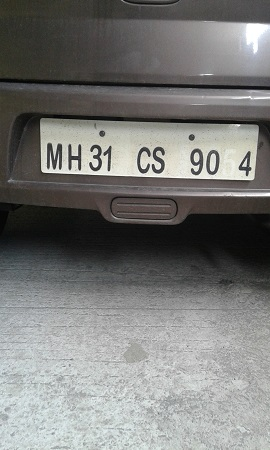licenseplate: (38, 114, 260, 182)
